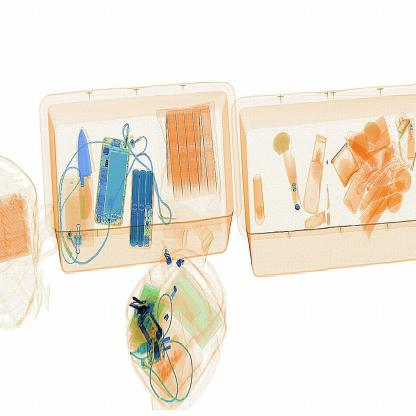wrench: (74, 122, 99, 223)
